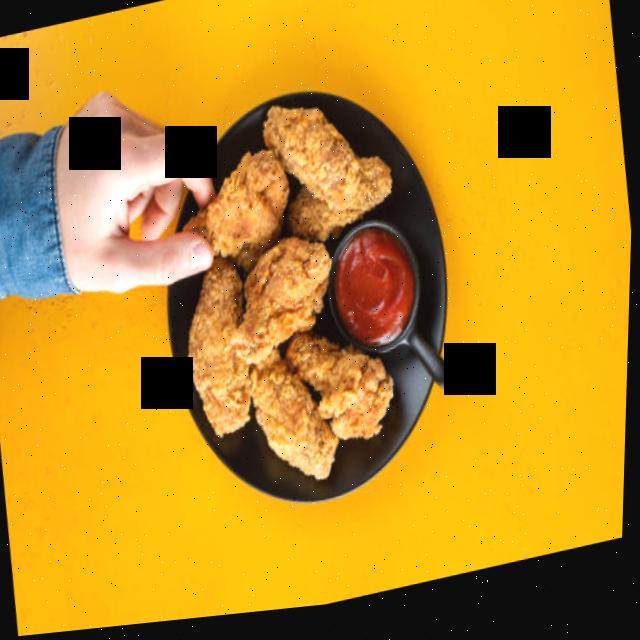Frango: (156, 83, 434, 519)
